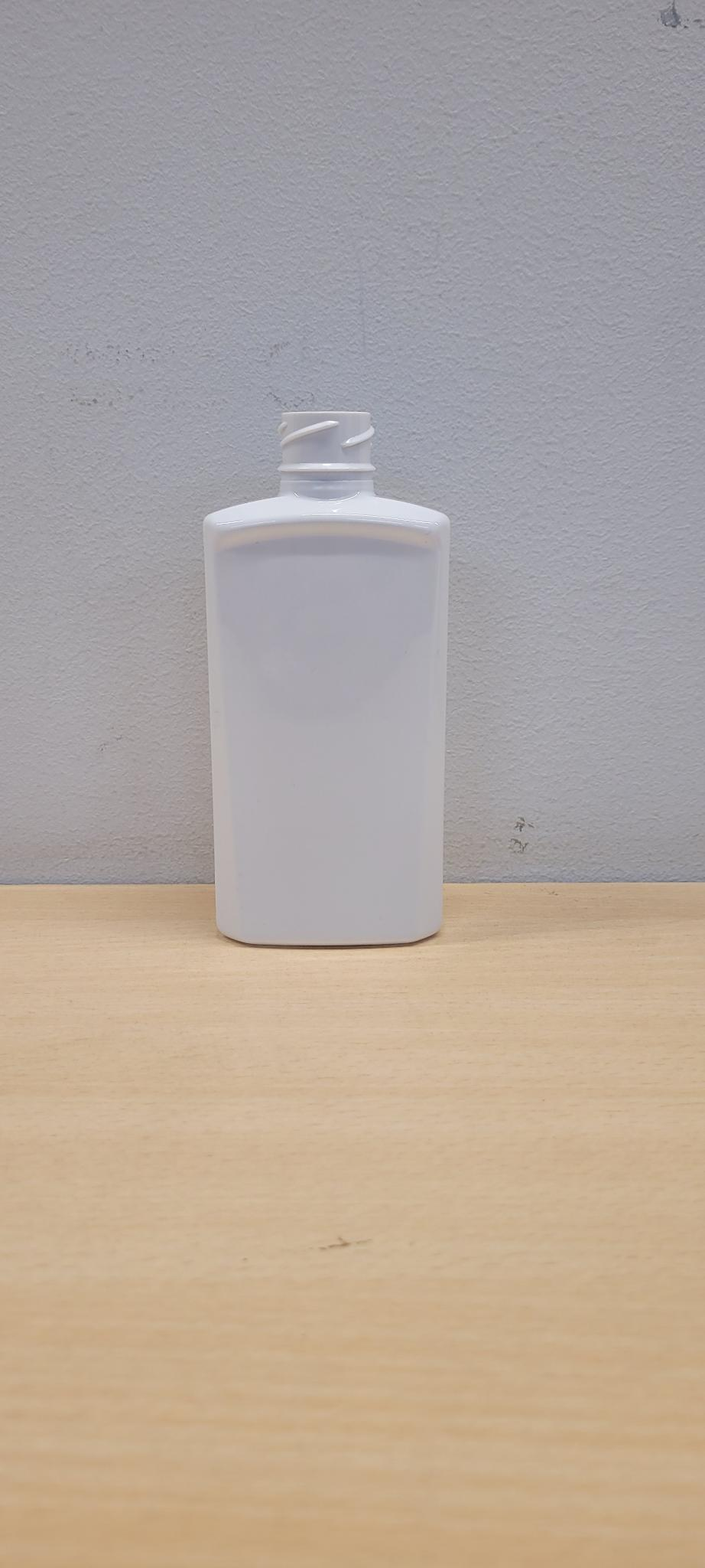bottle: (204, 406, 449, 948)
